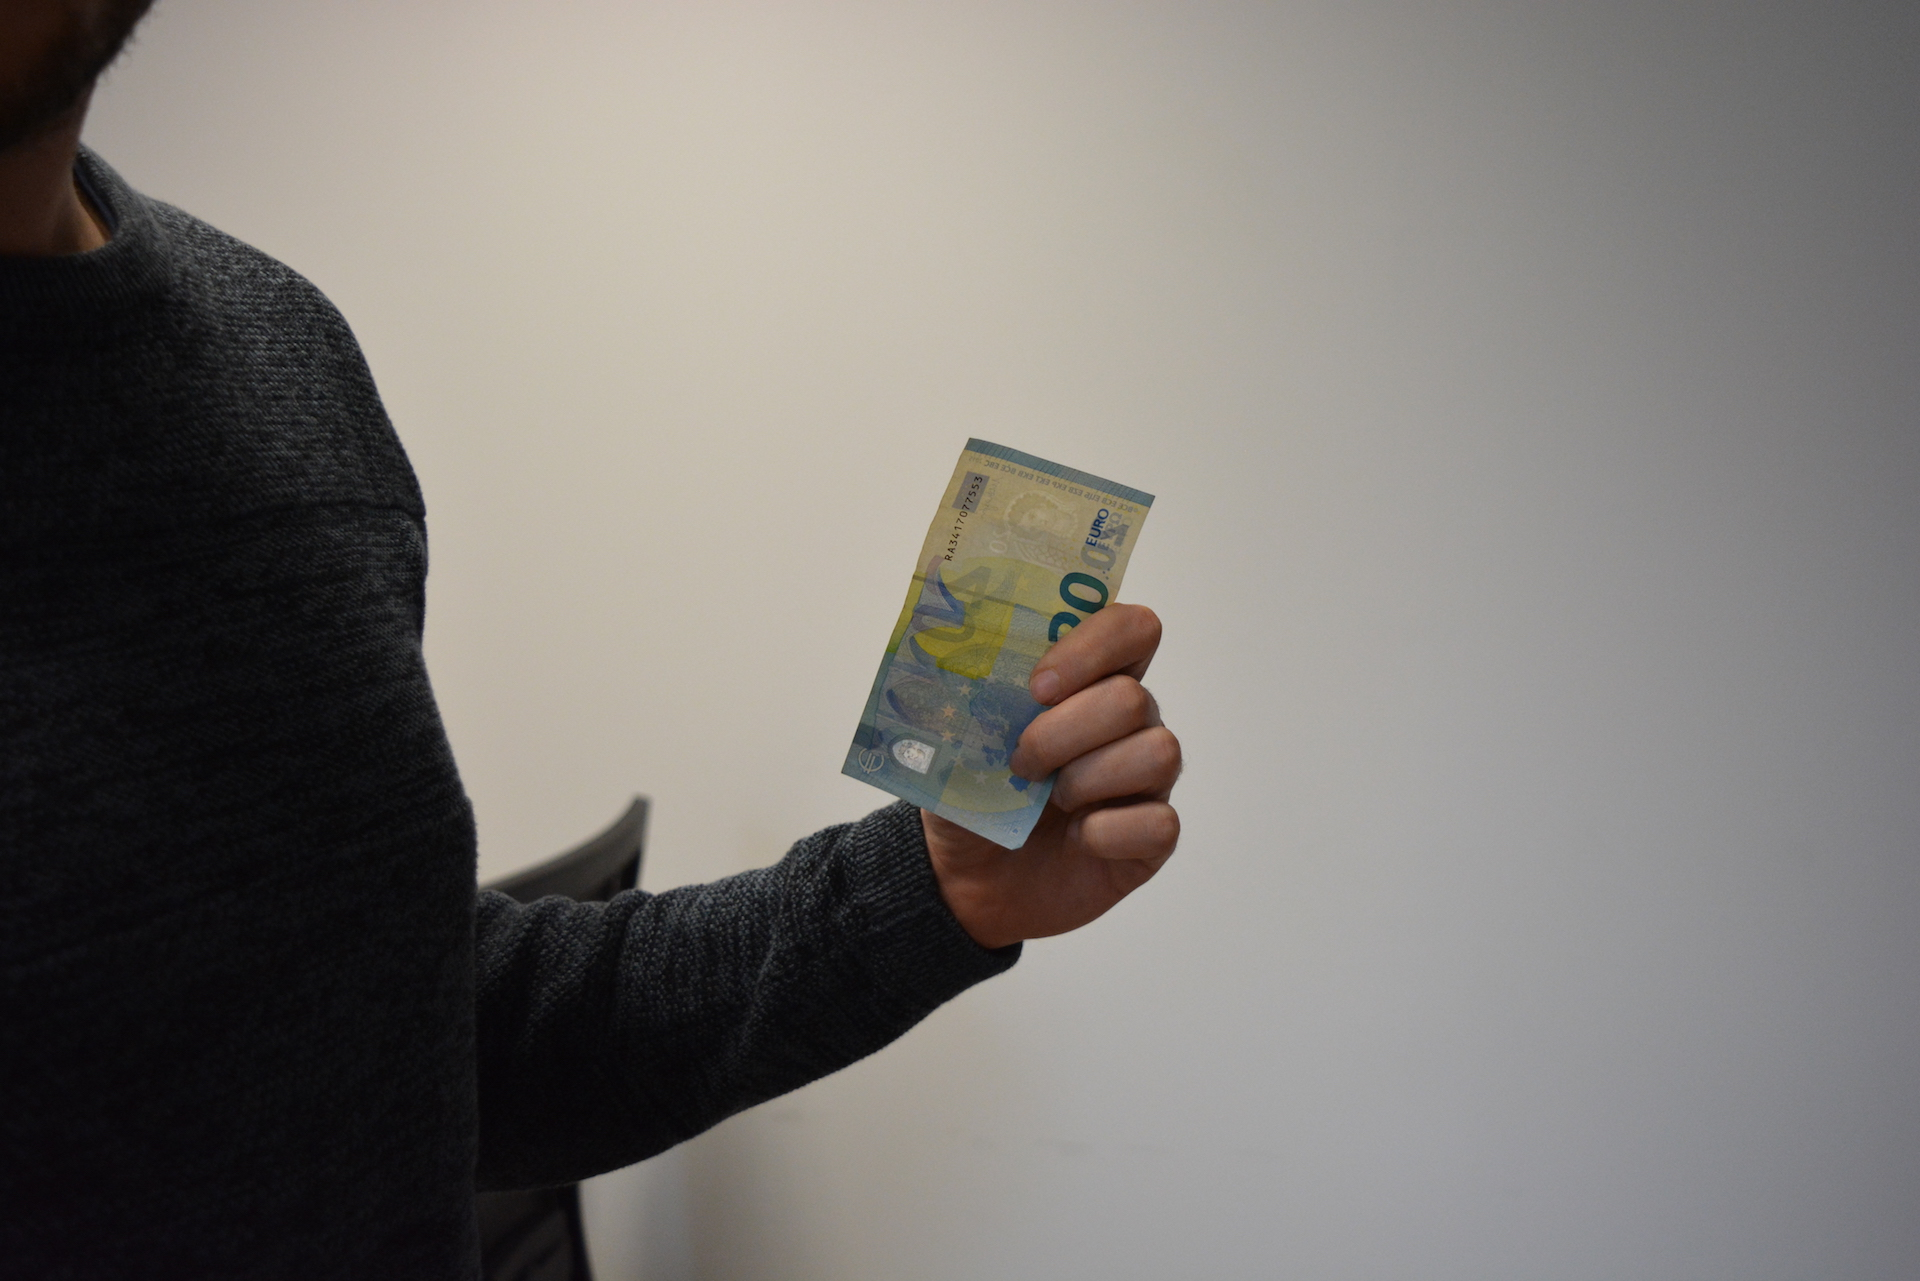billete: (839, 436, 1158, 854)
